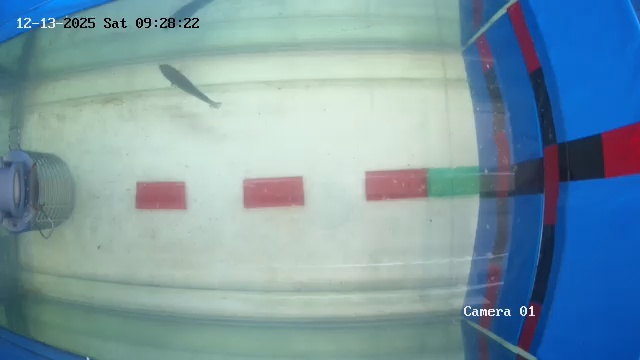fish: (155, 52, 222, 116)
